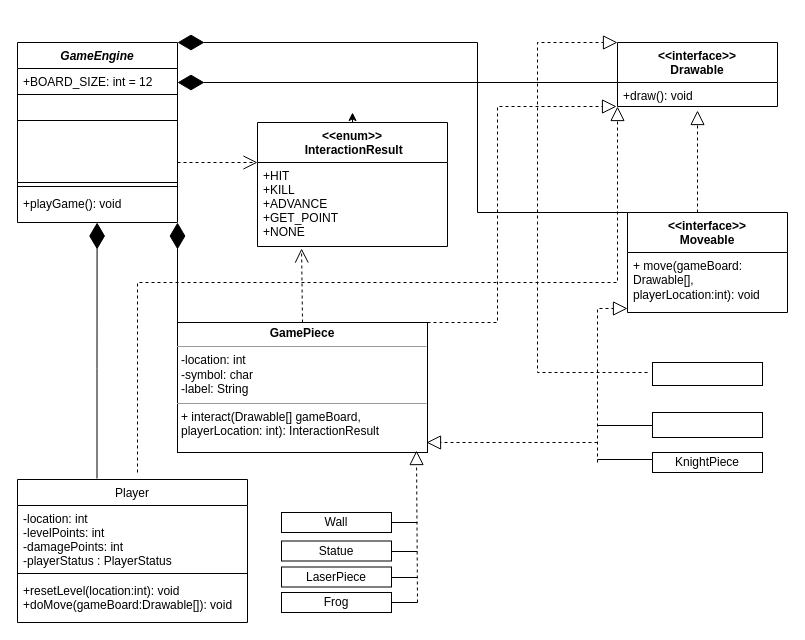
Some shapes in this 805 by 640 pixel diagram are drawn without their labels. The centre of each missing label's shape, as x and y in pixels:
"+NUM_LEVELS: int = 2" goes at [97,107].
"-currentLevel:int - levelData: LevelSetup -player: Player" goes at [97,151].
"SuspiciousStatue" goes at [707,425].
"WaterBottle" goes at [707,374].
